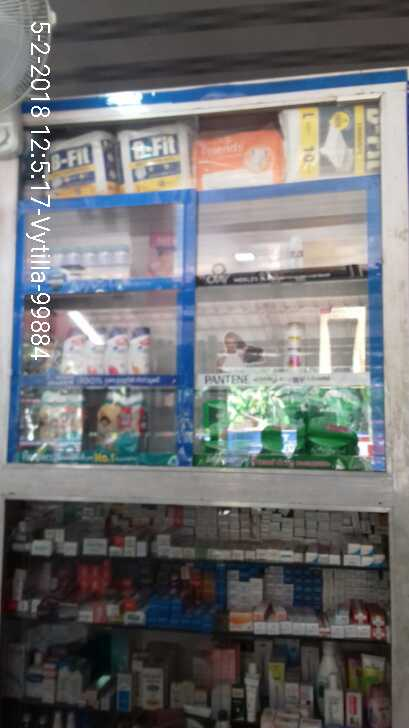vicks: (49, 247, 130, 277)
